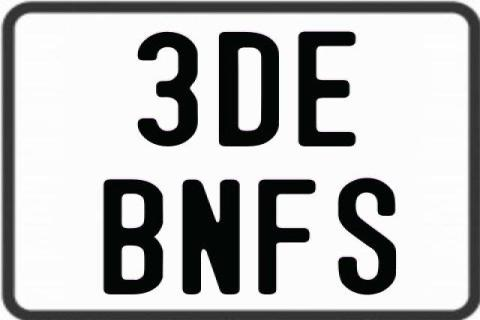0: (136, 31, 198, 149)
B: (104, 177, 166, 293)
D: (216, 31, 280, 145)
E: (295, 30, 357, 146)
F: (256, 177, 316, 293)
N: (179, 177, 243, 293)
S: (335, 176, 397, 293)
